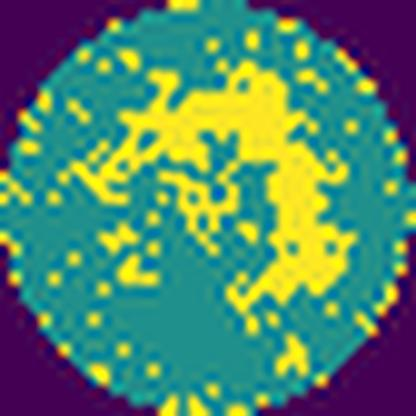Donut: (60, 52, 366, 336)
